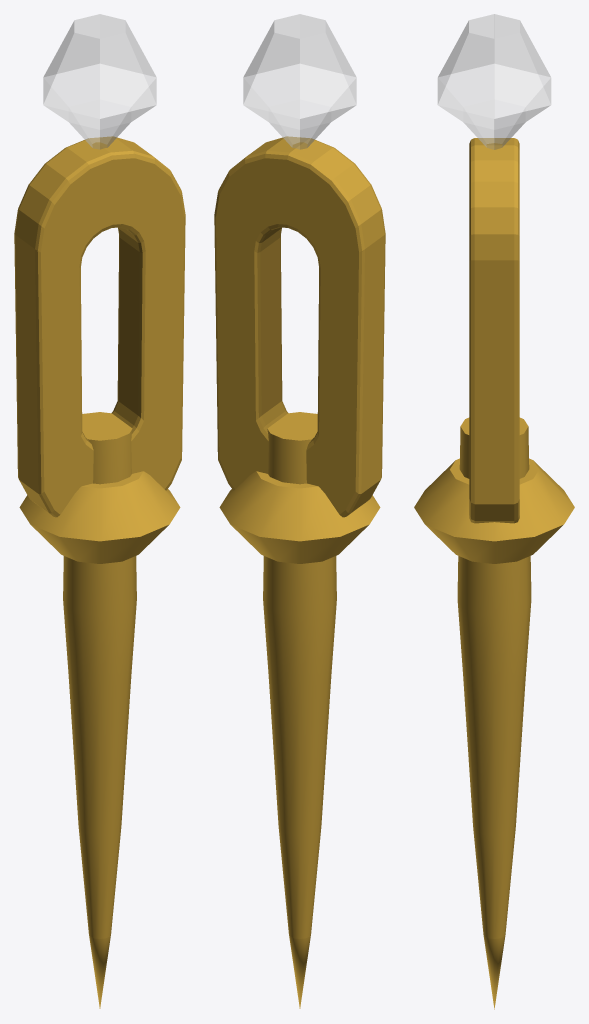
File: needle_golden.glb
3 renders of one model, left to right at view 1: azimuth 30°, elevation 25°; view 2: azimuth 150°, elevation 25°; view 3: azimuth 270°, elevation 25°, orthographic.
Parts seen in each view (by area): view 1: NeedleGolden; view 2: NeedleGolden; view 3: NeedleGolden.
Boxes of the visible parts, x1=… form: NeedleGolden: x1=14, y1=14, x2=185, y2=1008; NeedleGolden: x1=214, y1=14, x2=385, y2=1008; NeedleGolden: x1=414, y1=14, x2=574, y2=1009.
Size of the model in its own units: 0.029 by 0.182 by 0.027.
